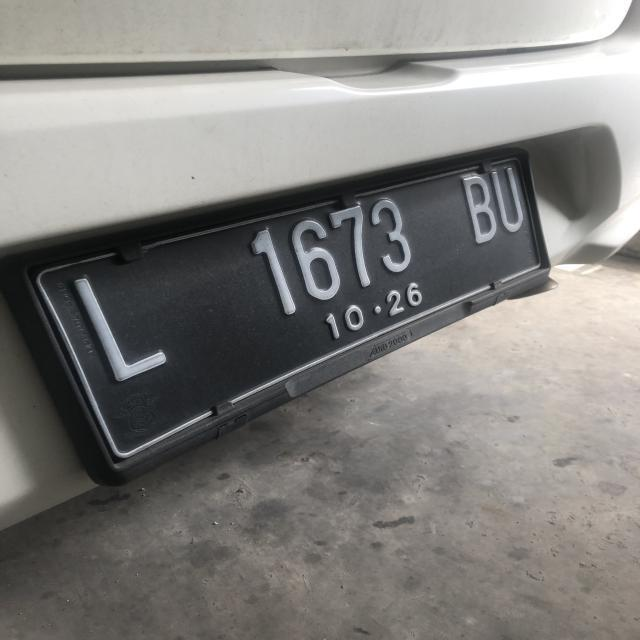1: (246, 226, 296, 321)
3: (368, 197, 417, 273)
6: (290, 216, 342, 305)
7: (327, 207, 374, 290)
B: (461, 172, 499, 240)
L: (72, 270, 168, 386)
U: (492, 166, 525, 233)
